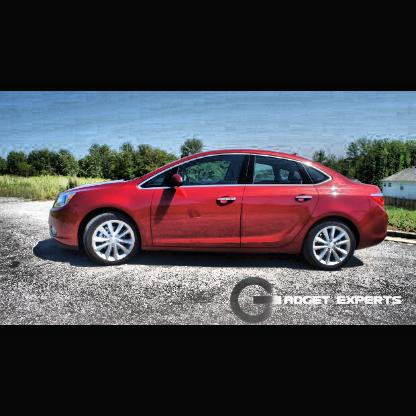Buick Verano Sedan 2012: (51, 150, 389, 267)
